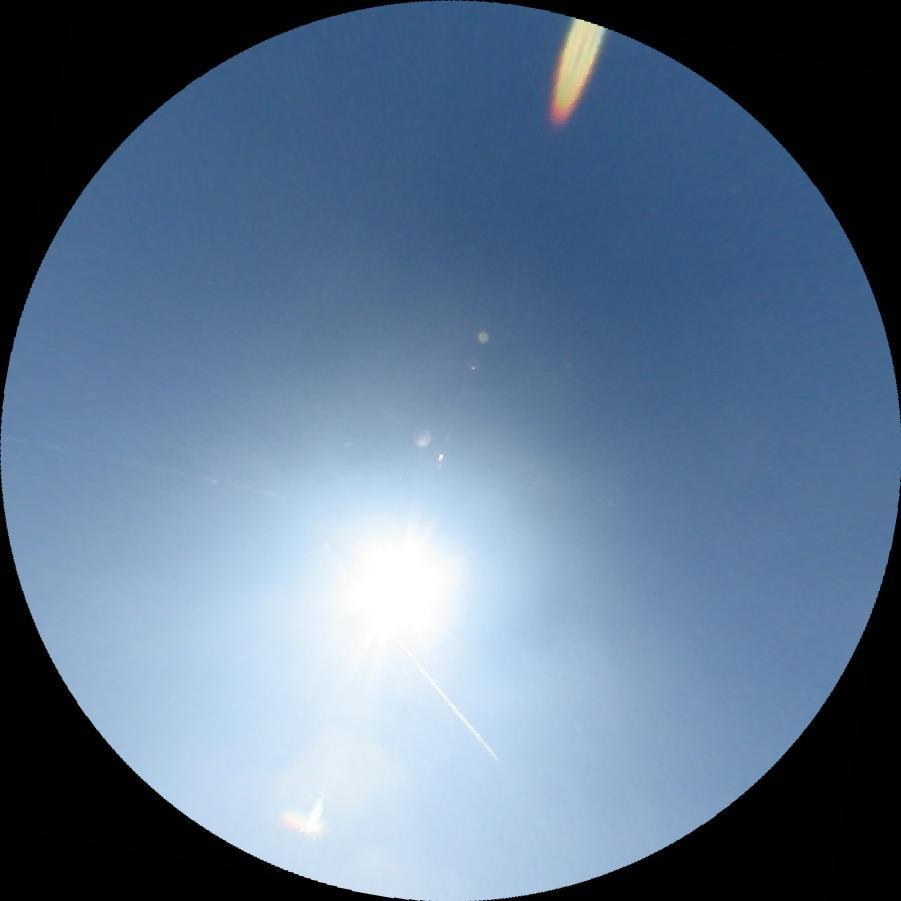contrail young: (398, 641, 499, 760)
sun: (311, 506, 476, 670)
